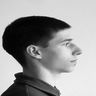ear: (22, 39, 46, 63)
